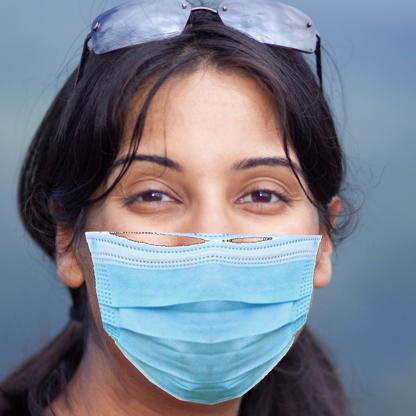mask: (79, 226, 327, 409)
